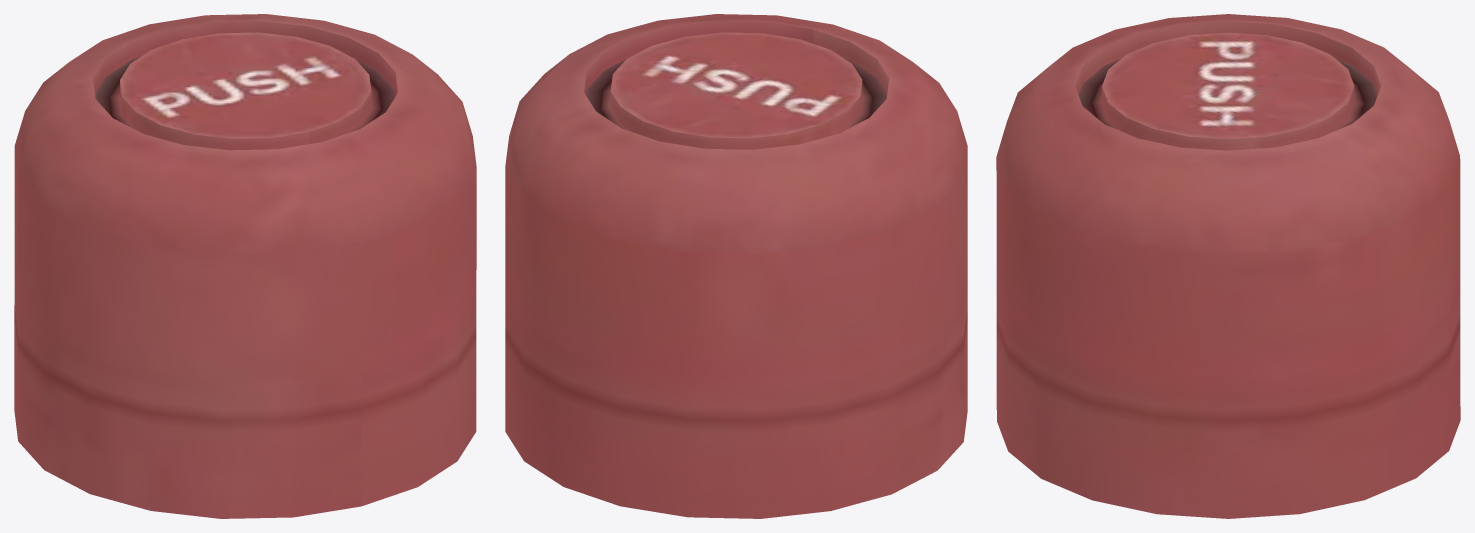
The model's file is button.glb.
3 renders of one model, left to right at view 1: azimuth 30°, elevation 25°; view 2: azimuth 150°, elevation 25°; view 3: azimuth 270°, elevation 25°, orthographic.
Parts seen in each view (by area): view 1: Cap; view 2: Cap; view 3: Cap.
Boxes of the visible parts, bbox=[...] form: Cap: bbox=[14, 14, 476, 518]; Cap: bbox=[505, 14, 967, 518]; Cap: bbox=[996, 14, 1460, 518].
Bounding box in the file's own units: 0.3565 × 0.2845 × 0.3567.
Materials: 1 (1 with a texture image).
